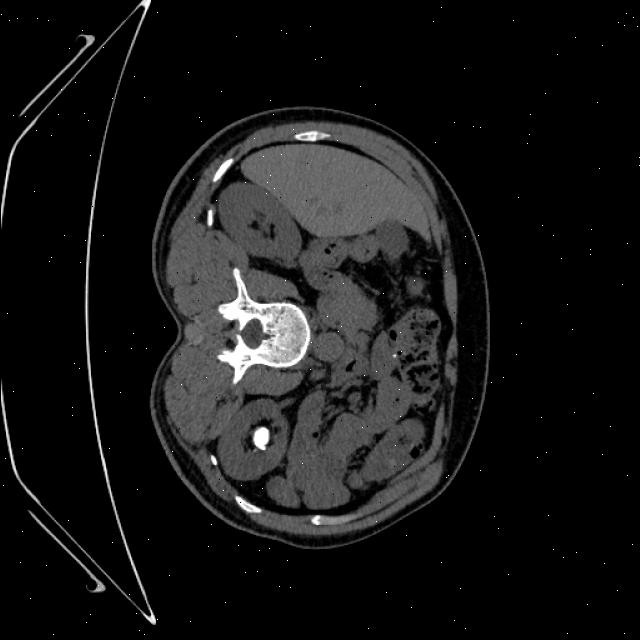kidneystone: (252, 428, 269, 450)
